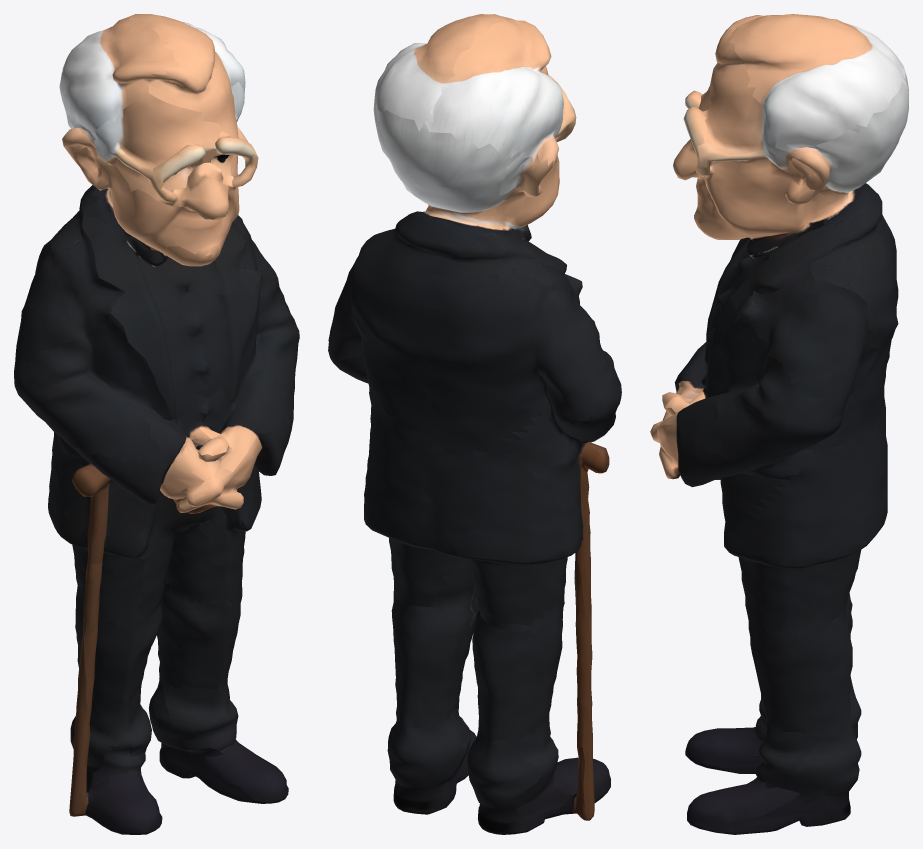
File: npc_mourner_elderly_v2.glb
3 views of the same model, side by side, from view 1: azimuth 30°, elevation 25°; view 2: azimuth 150°, elevation 25°; view 3: azimuth 270°, elevation 25° (orthographic). The views are drawn at different scales.
Bounding box in the file's own units: 0.7006 × 1.91 × 0.5753.
1 material, 1 textured.
